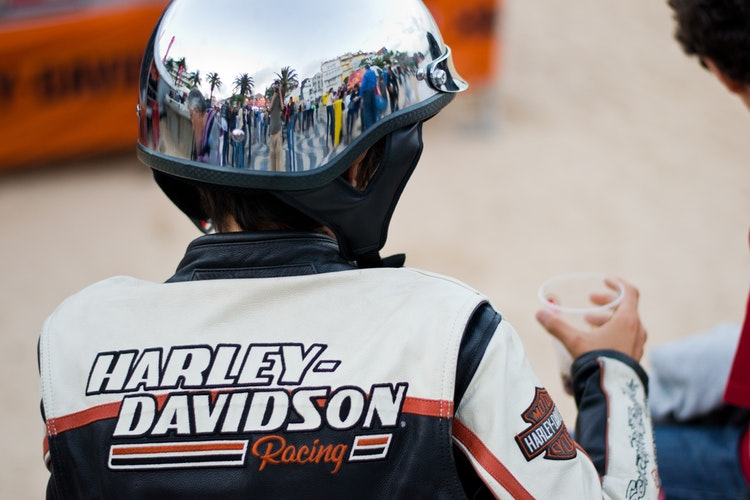helmet: (138, 7, 471, 201)
